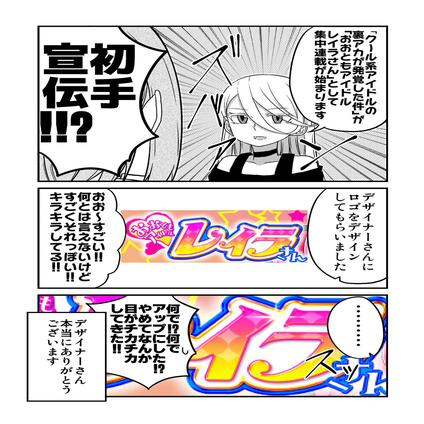bubble: (40, 25, 164, 174), (289, 26, 387, 132), (38, 189, 126, 285), (303, 190, 386, 281)
